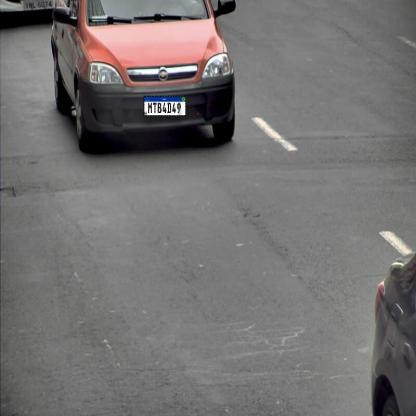PlacaM: (144, 96, 186, 116)
